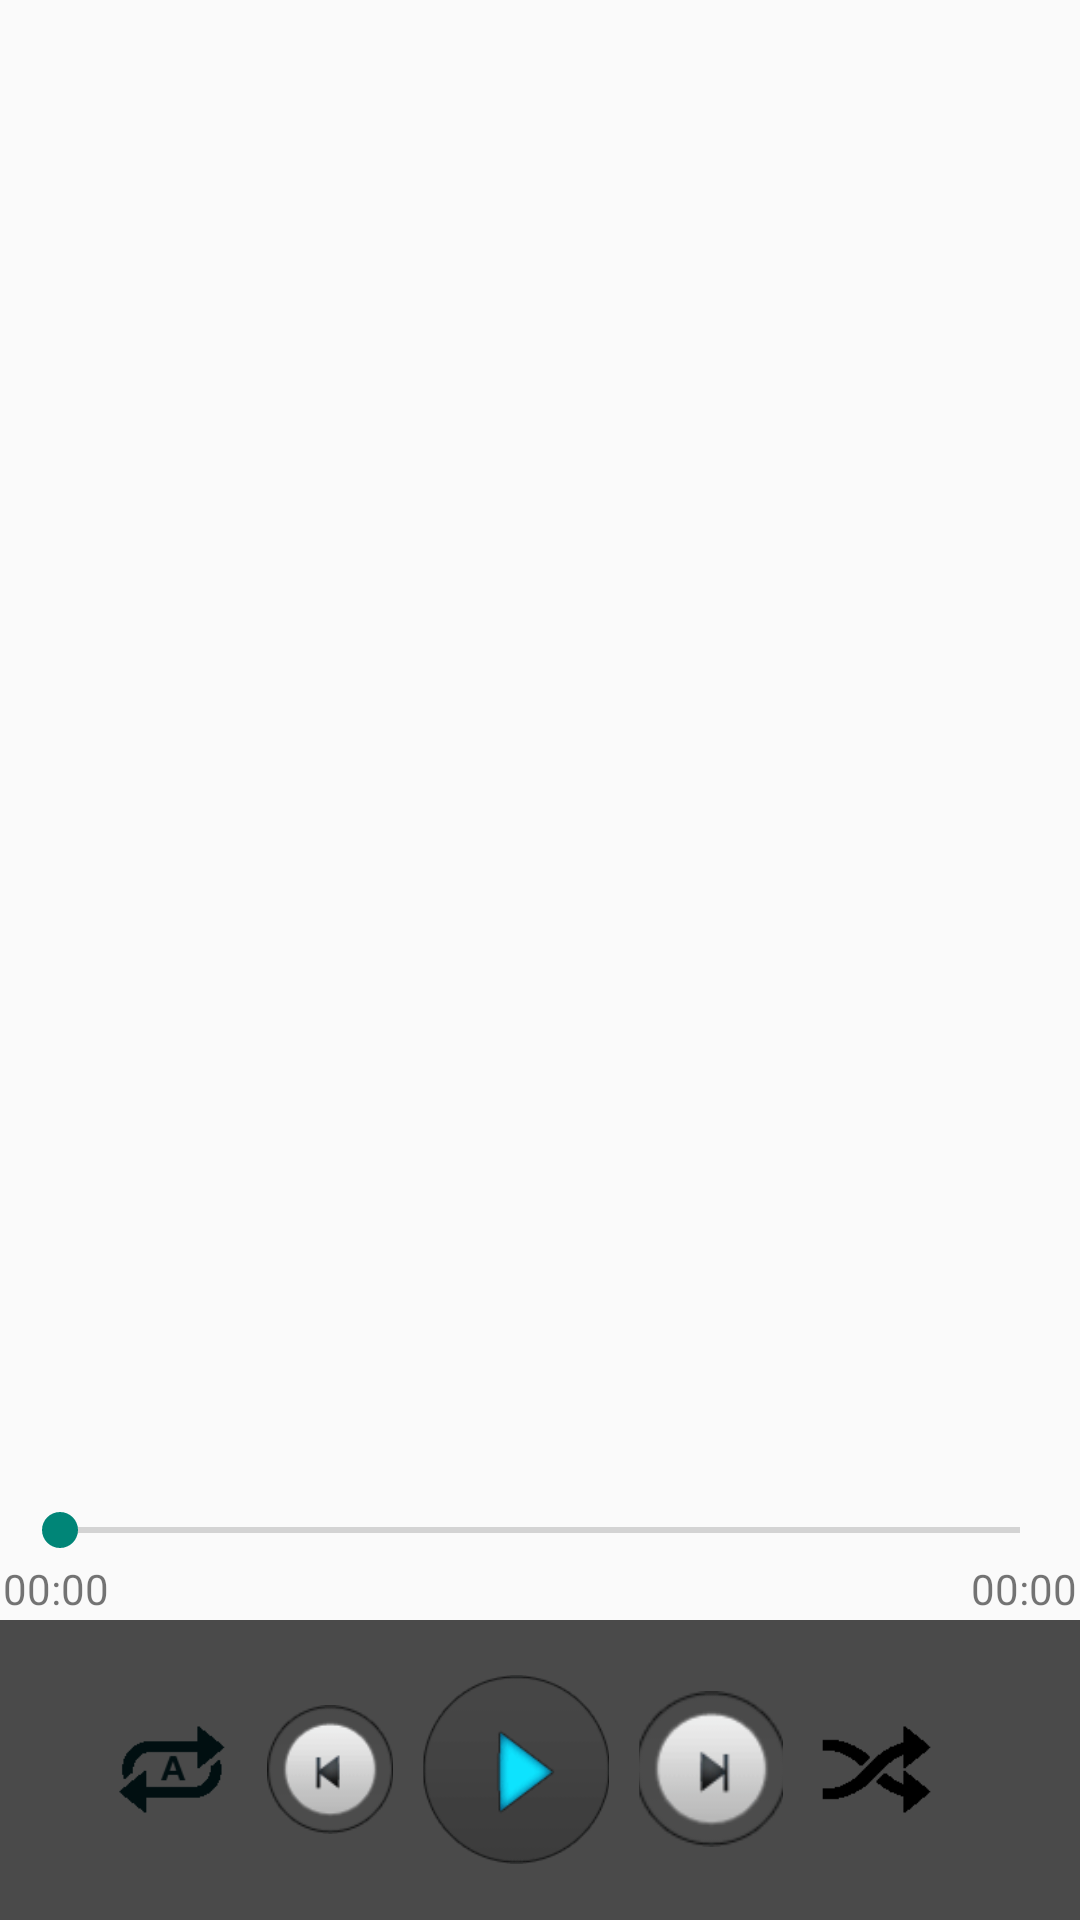

Icon bounding boxes for this 1080px×1920px phone screenshot, format (x1=x1, y1=y1, x2=x2, y2=y2):
next: (x1=639, y1=1691, x2=783, y2=1845)
play: (x1=423, y1=1676, x2=609, y2=1863)
previous: (x1=267, y1=1705, x2=393, y2=1833)
repeat all: (x1=119, y1=1726, x2=224, y2=1813)
shuffle: (x1=823, y1=1726, x2=930, y2=1813)
